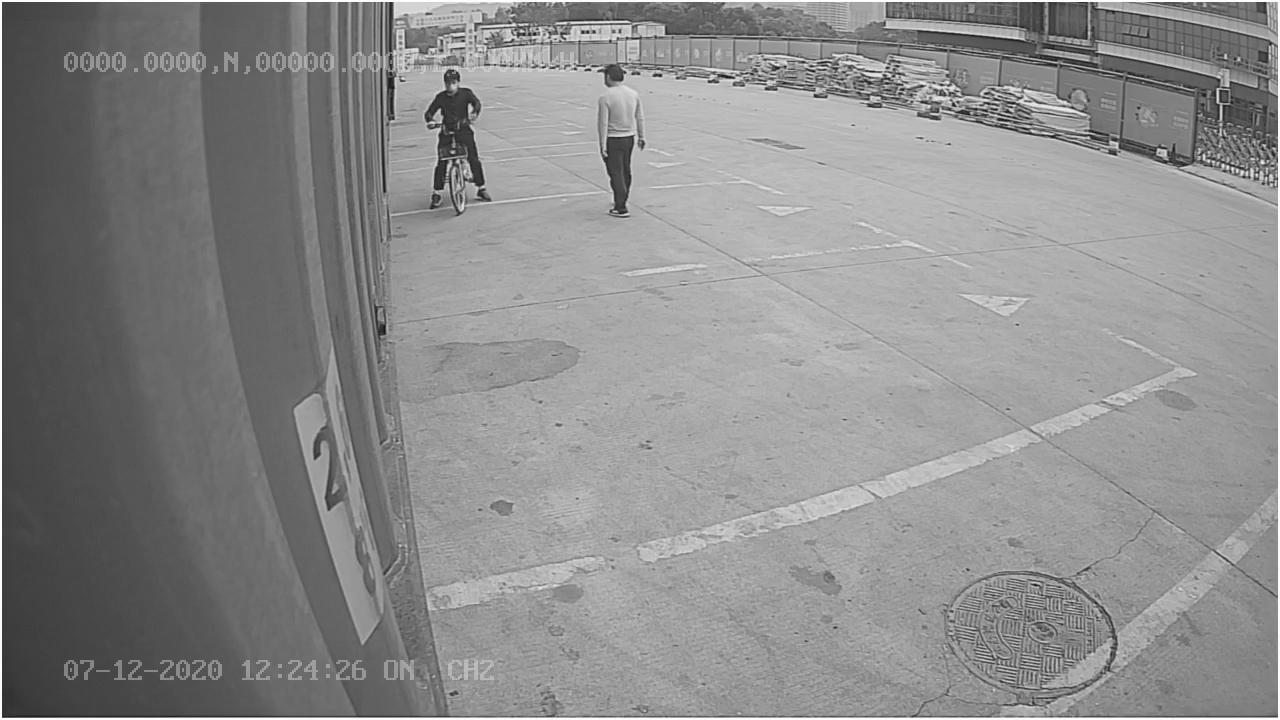person: (590, 62, 649, 219)
